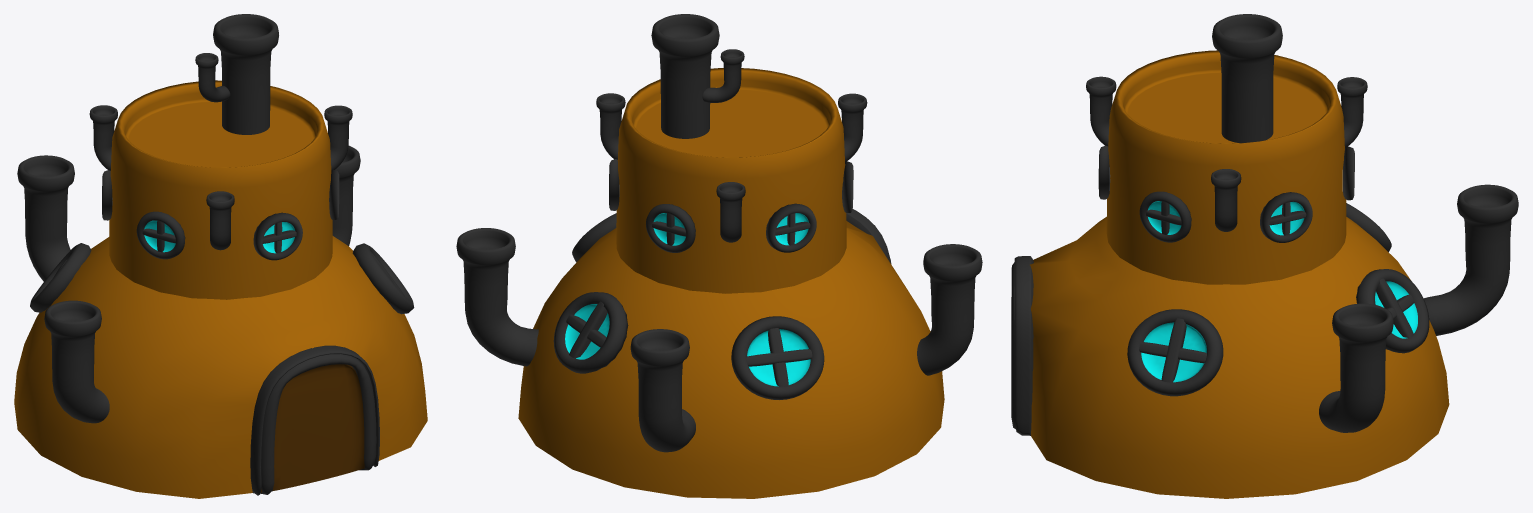
The model's file is Factory.fbx.
The picture shows the model from 3 angles, left to right: view 1: azimuth 30°, elevation 25°; view 2: azimuth 150°, elevation 25°; view 3: azimuth 270°, elevation 25°; orthographic projection. The views are drawn at different scales.
Visible parts, largest first — view 1: polySurface27; view 2: polySurface27; view 3: polySurface27.
Part boxes in pixels (x1=…): polySurface27: x1=14, y1=14, x2=427, y2=498; polySurface27: x1=456, y1=14, x2=982, y2=498; polySurface27: x1=1011, y1=14, x2=1518, y2=498.
Bounding box in the file's own units: 3.94 × 3.43 × 3.99.
